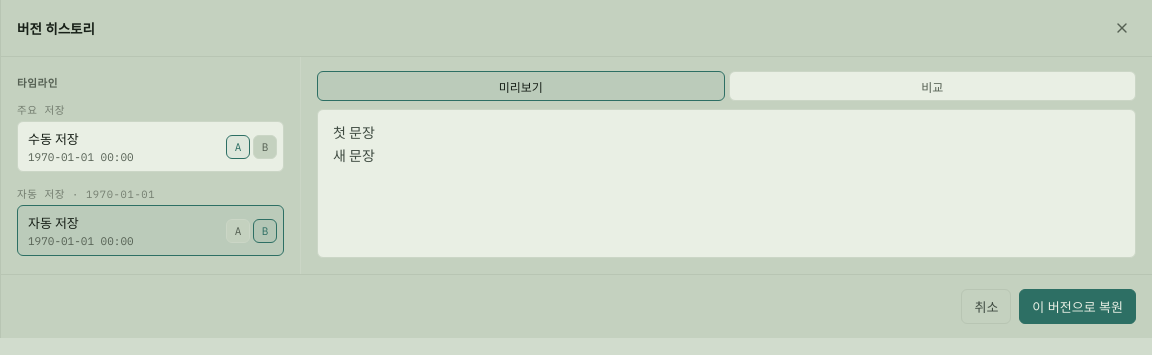
VersionSheet › compares two selected versions in the side panel
The width and height of the screenshot is (1152, 355).
Step 1. Click the button named "비교 A" → click(238, 146), box [226,134,250,158]
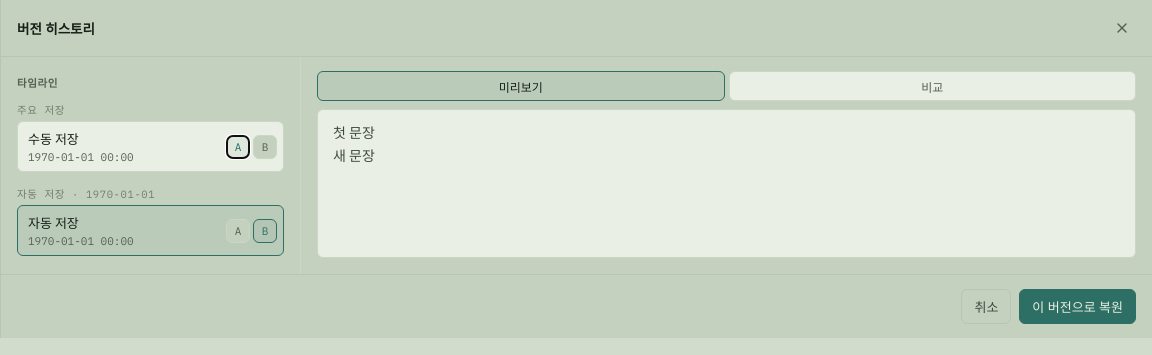
Step 2. Click the button named "비교 B" → click(265, 230), box [253,218,277,242]
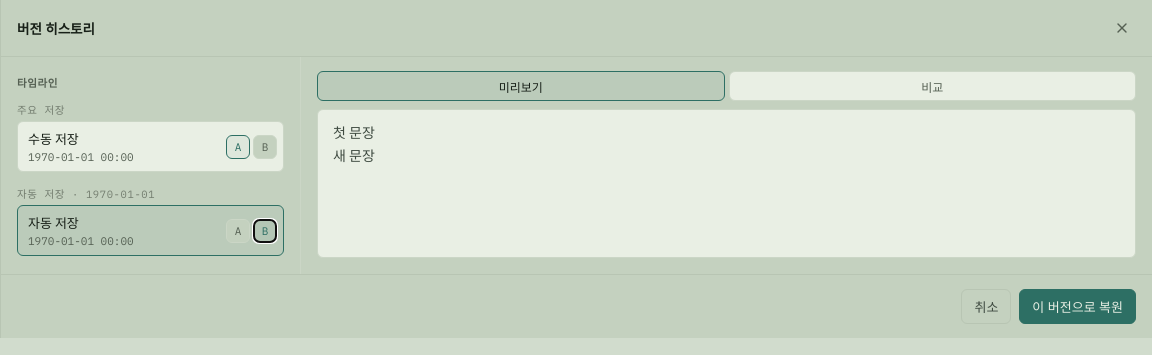
Step 3. Click the tab "비교" → click(932, 86), box [728,71,1136,101]
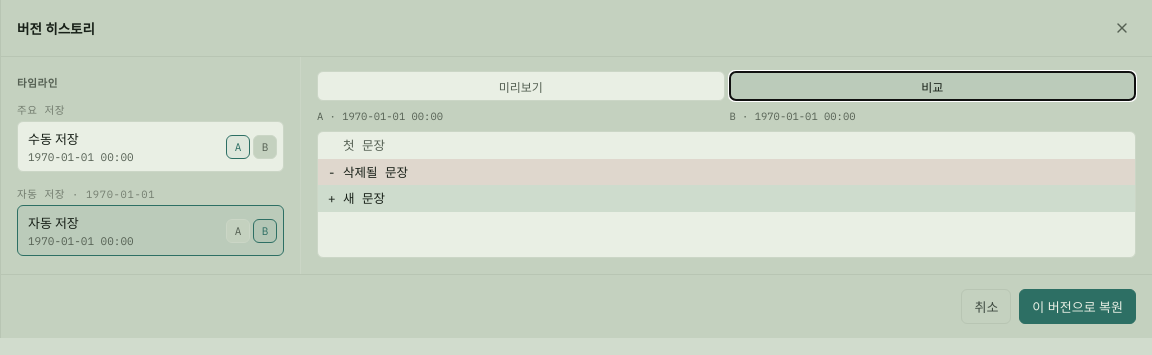
Now the text "- 삭제될 문장" is shown, box [318,159,1135,185]
Now the text "+ 새 문장" is shown, box [318,185,1135,212]
